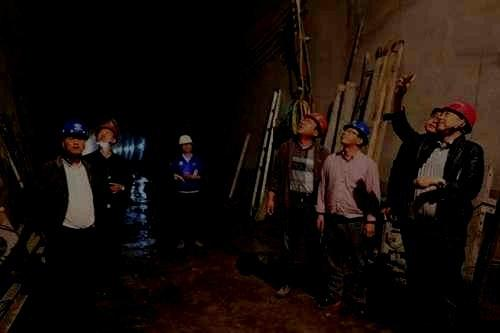helmet: (437, 99, 479, 135), (61, 121, 90, 154), (339, 118, 370, 146), (296, 112, 328, 138), (96, 119, 117, 144), (424, 107, 443, 132), (179, 134, 193, 153)
